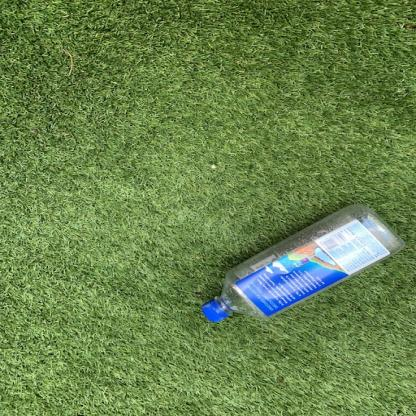trash: (200, 204, 408, 323)
